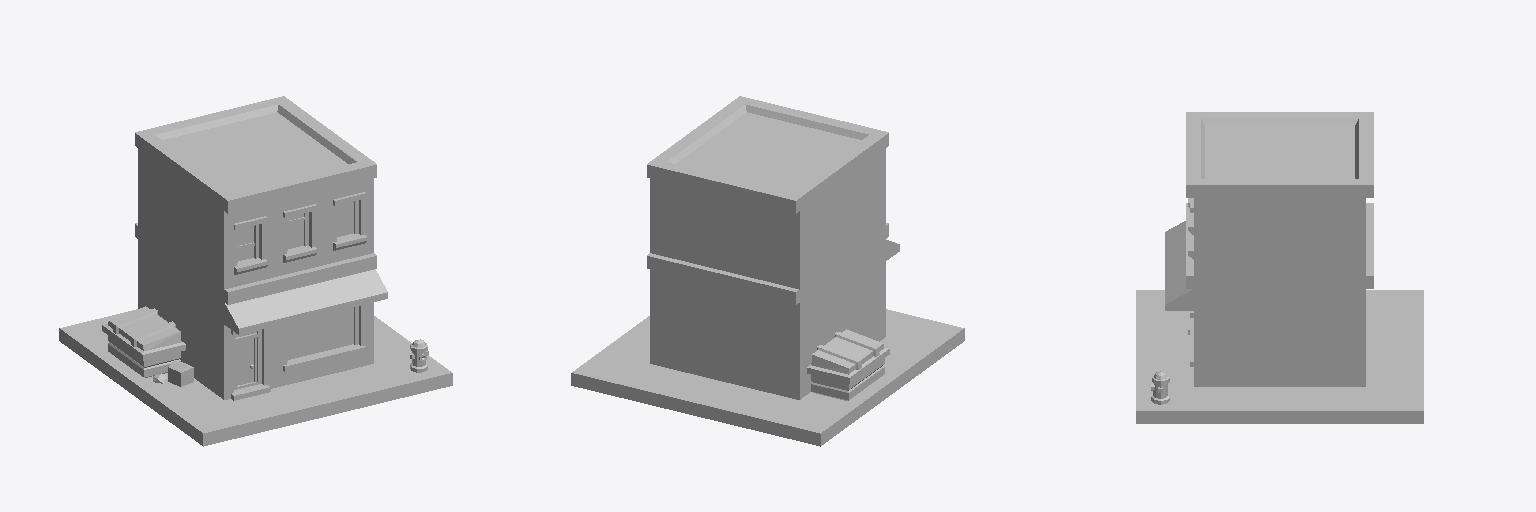
The model's file is building.obj.
3 views of the same model, side by side, from view 1: azimuth 30°, elevation 25°; view 2: azimuth 150°, elevation 25°; view 3: azimuth 270°, elevation 25° (orthographic).
Parts seen in each view (by area): view 1: building_A; view 2: building_A; view 3: building_A.
Part boxes in pixels (x1,y1,x2,y2): building_A: (59,96,452,446); building_A: (571,96,964,446); building_A: (1136,112,1423,423).
Size of the model in its own units: 2 by 1.65 by 2.